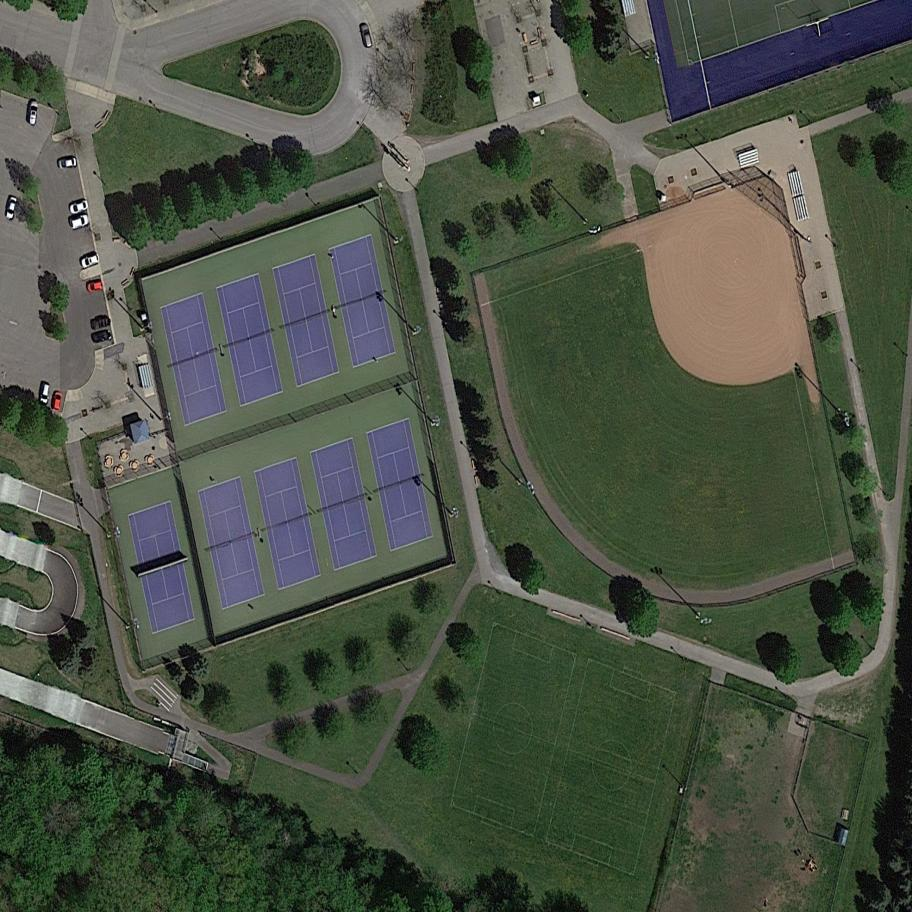small-vehicle: (67, 213, 92, 232), (78, 251, 102, 270), (89, 327, 114, 345), (68, 199, 92, 217), (89, 315, 113, 332), (4, 196, 19, 221), (56, 156, 79, 172), (360, 23, 373, 49), (28, 100, 39, 127), (39, 383, 51, 406), (86, 279, 104, 293), (52, 391, 63, 412)
